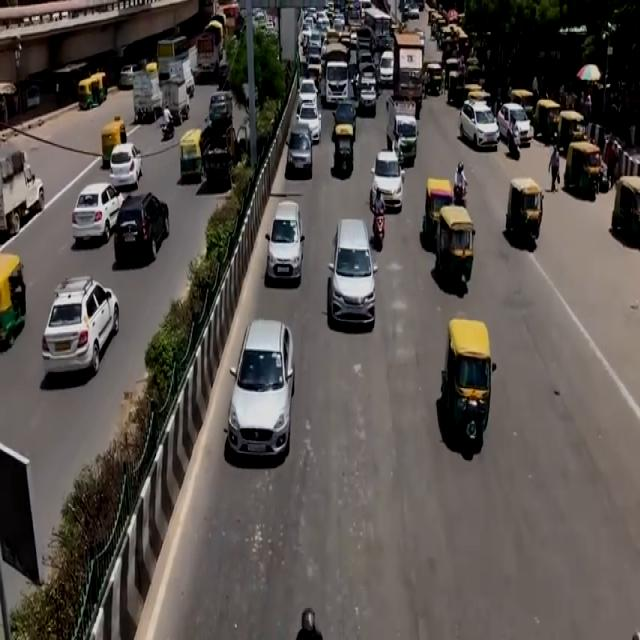MOTORCYCLE: (375, 212, 387, 254)
SED: (228, 321, 292, 458), (269, 216, 303, 282)
SUV: (72, 186, 120, 252)
TRUCK: (0, 150, 45, 248), (195, 23, 225, 81)
